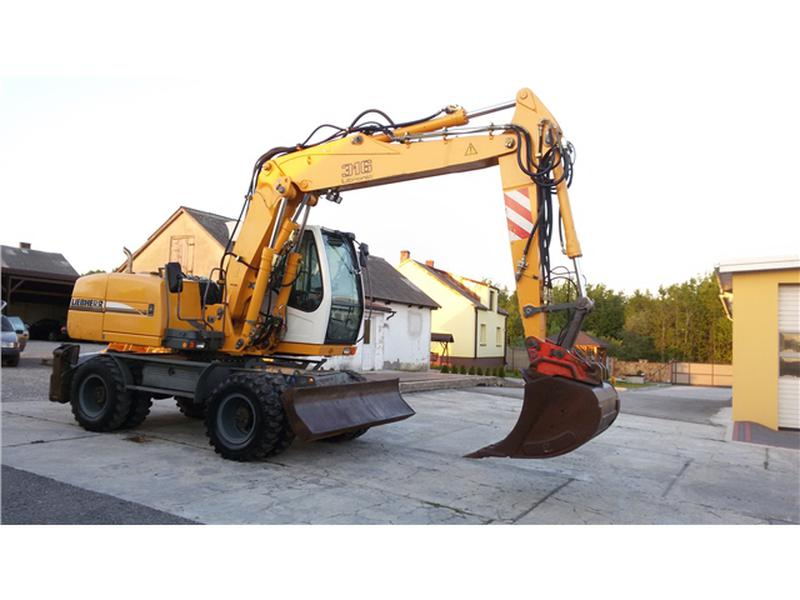shovel: (46, 84, 635, 470)
